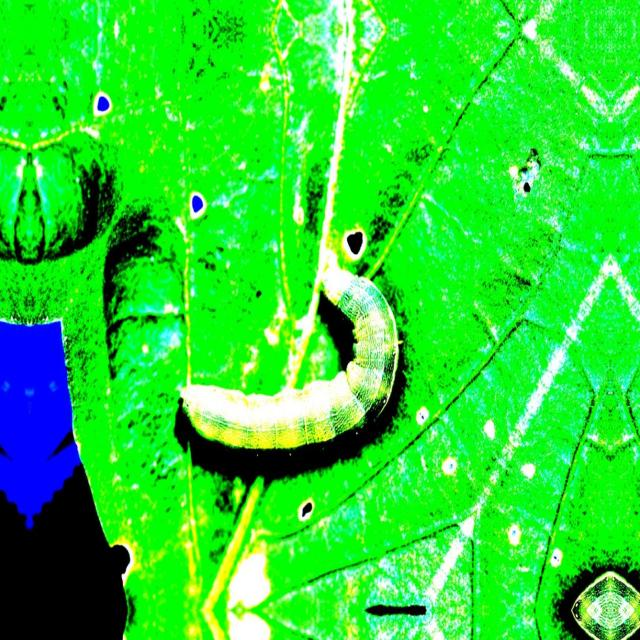Armyworm: (173, 243, 411, 482)
Armyworm_damage: (88, 527, 148, 590), (76, 76, 122, 134), (178, 179, 215, 232), (292, 491, 327, 546), (344, 217, 380, 260)
